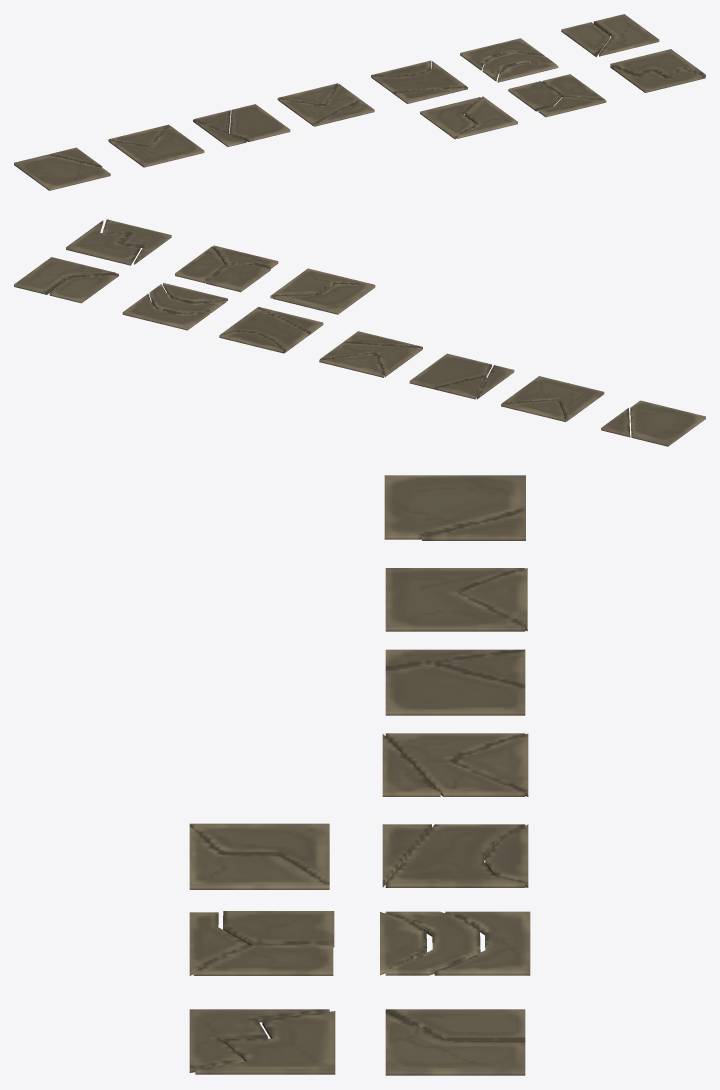
File: Tile_floor2.fbx
3 views of the same model, one above another, from view 1: azimuth 30°, elevation 25°; view 2: azimuth 150°, elevation 25°; view 3: azimuth 270°, elevation 25° (orthographic). The views are drawn at different scales.
Visible parts, largest first — view 1: tile_1, tile_2, tile_7, tile_3, tile_5, tile_8_1, tile_10, tile_4, tile_10_1, tile_8, tile_6_1, tile_9_2 (+13 smaller); view 2: tile_1, tile_2, tile_7, tile_3, tile_8_1, tile_5, tile_10, tile_4, tile_10_1, tile_6_1, tile_8, tile_9_2 (+13 smaller); view 3: tile_1, tile_2, tile_3, tile_5, tile_7, tile_8_1, tile_4, tile_10, tile_10_1, tile_6_1, tile_8, tile_9 (+13 smaller).
Part boxes in pixels (x1,y1,x2,y2): tile_1: (14,154,110,190); tile_2: (109,125,204,167); tile_7: (593,14,659,56); tile_3: (229,104,290,141); tile_5: (371,61,466,94); tile_8_1: (610,49,705,78); tile_10: (420,97,480,139); tile_4: (278,84,359,125); tile_10_1: (457,96,517,138); tile_8: (610,65,705,92); tile_6_1: (460,38,544,70); tile_9_2: (508,81,561,111); tile_1: (630,400,705,446); tile_2: (501,376,604,421); tile_7: (14,257,116,294); tile_3: (409,353,491,389); tile_8_1: (66,220,140,265); tile_5: (220,307,309,352); tile_10: (273,283,375,314); tile_4: (320,343,422,376); tile_10_1: (270,268,372,298); tile_6_1: (122,294,210,330); tile_8: (102,219,171,264); tile_9_2: (206,264,270,292); tile_1: (384,475,525,539); tile_2: (385,568,525,631); tile_3: (385,663,525,715); tile_5: (385,824,525,887); tile_7: (385,1012,525,1075); tile_8_1: (195,1011,335,1074); tile_4: (385,733,525,796); tile_10: (189,823,329,884); tile_10_1: (189,826,329,889); tile_6_1: (434,911,530,975); tile_8: (189,1009,329,1072); tile_9: (193,944,333,975).
Bounding box in the file's own units: 1977 × 7.14 × 478.
1 material, 1 textured.
